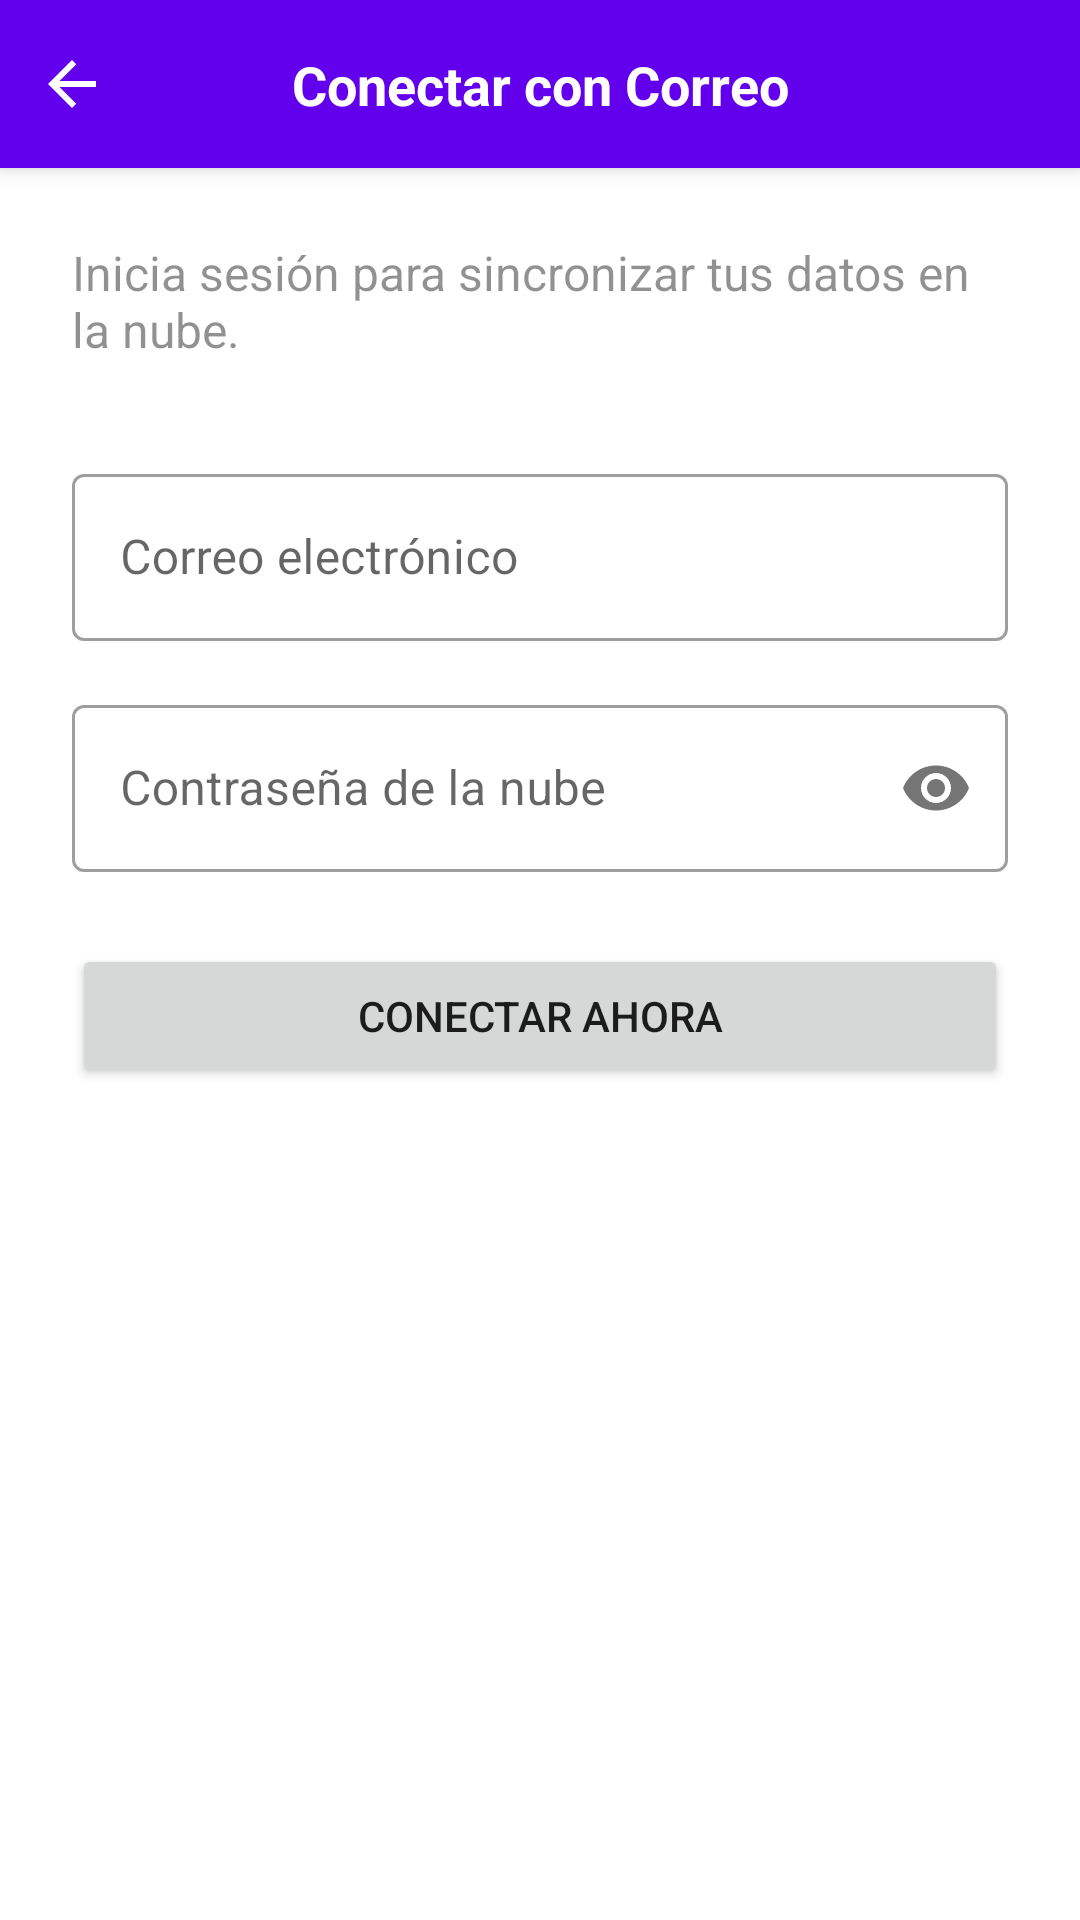

Named icons in this screenshot (1080px×1920px) and their bounding boxes, (x1, y1, x2, y2):
Volver: (48, 60, 96, 108)
